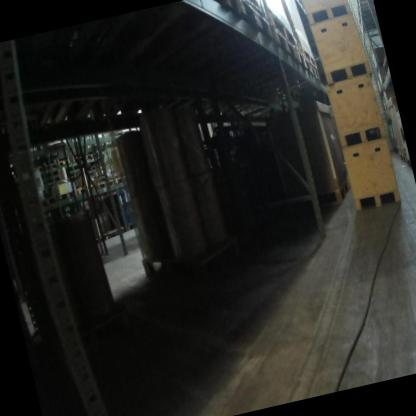pallet: (143, 0, 278, 65), (163, 0, 240, 34), (294, 178, 352, 222), (269, 21, 302, 72), (90, 225, 127, 250), (289, 43, 312, 78), (74, 181, 97, 202), (52, 188, 77, 206), (94, 176, 115, 194), (44, 160, 63, 177), (308, 62, 322, 85), (84, 147, 105, 162), (396, 148, 409, 169), (379, 52, 389, 75), (56, 156, 72, 170), (72, 152, 86, 166), (114, 174, 129, 185)
stillage: (101, 182, 141, 238)
